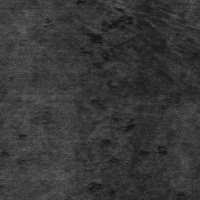rolled-in_scale: (109, 113, 175, 155), (104, 4, 138, 32)
